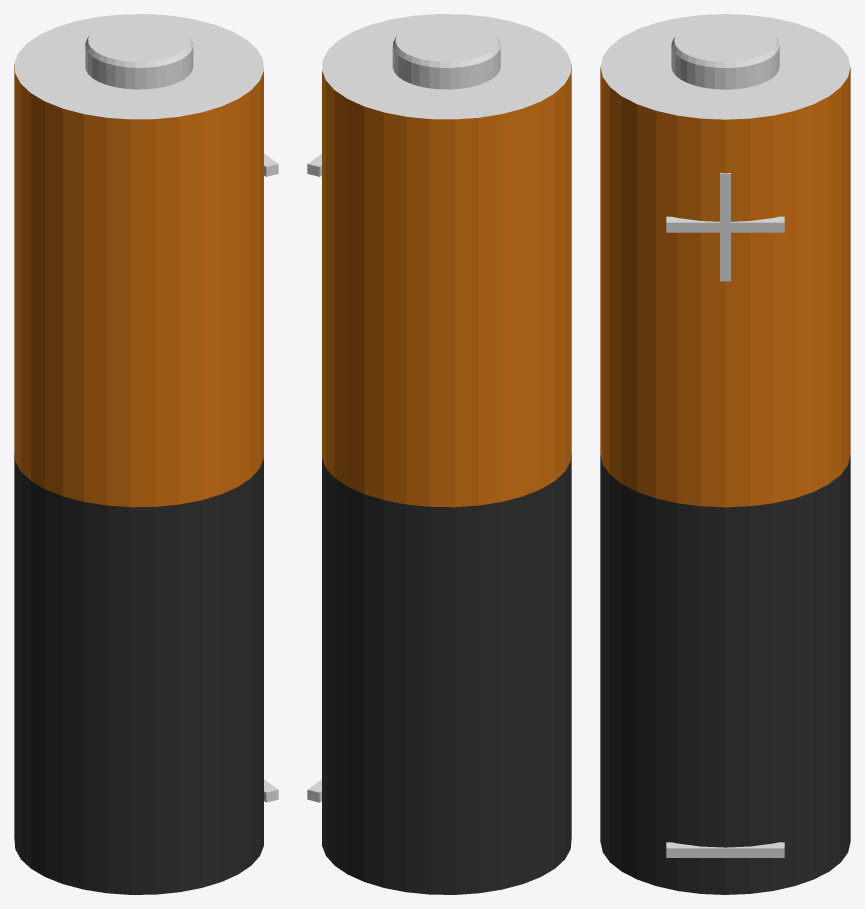
Rendered from Battery.glb.
3 views of the same model, side by side, from view 1: azimuth 30°, elevation 25°; view 2: azimuth 150°, elevation 25°; view 3: azimuth 270°, elevation 25° (orthographic).
Parts seen in each view (by area): view 1: Cube.002; view 2: Cube.002; view 3: Cube.002.
Part boxes in pixels (x1=…): Cube.002: x1=14, y1=14, x2=278, y2=894; Cube.002: x1=307, y1=14, x2=571, y2=894; Cube.002: x1=600, y1=14, x2=850, y2=894.
Size of the model in its own units: 1.07 by 3.75 by 1.06.
